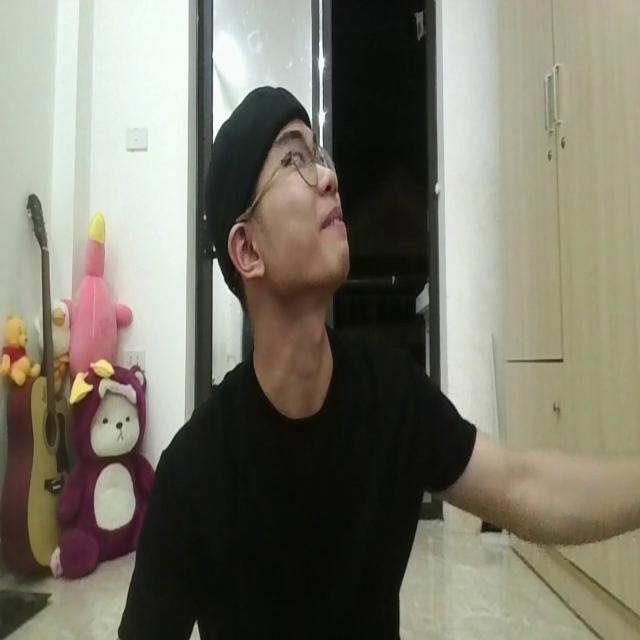student: (111, 84, 631, 628)
